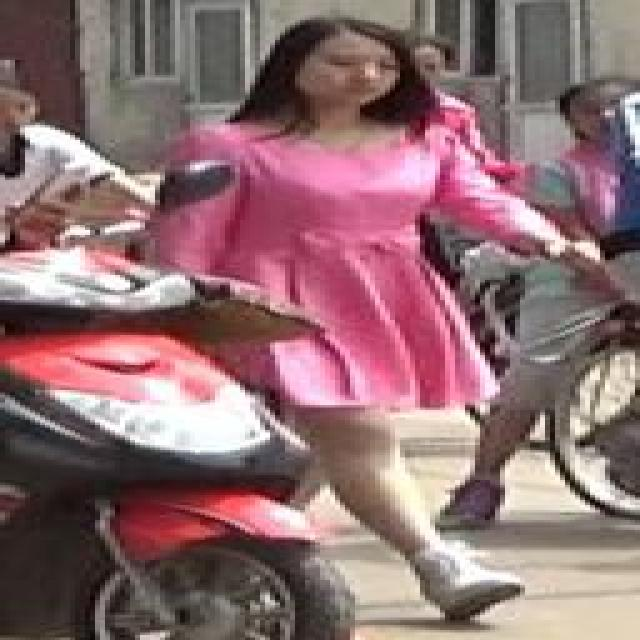adult: (117, 11, 608, 612)
child: (505, 77, 640, 495)
